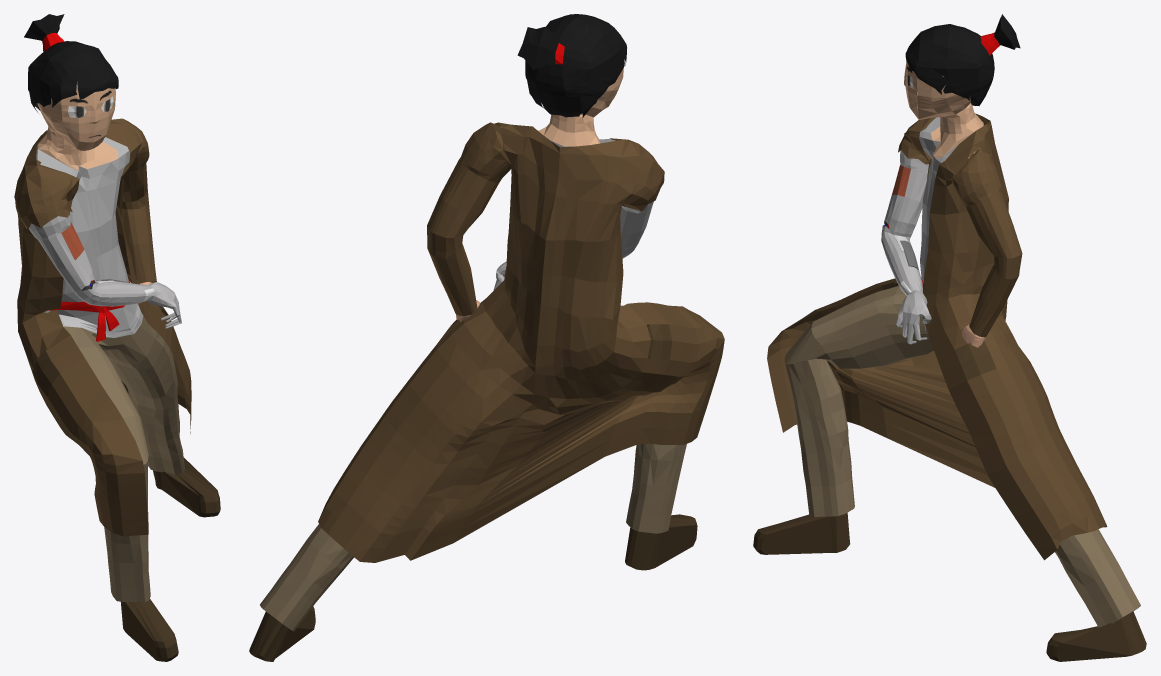
Rendered from One_RL_000013.obj.
The picture shows the model from 3 angles, left to right: view 1: azimuth 30°, elevation 25°; view 2: azimuth 150°, elevation 25°; view 3: azimuth 270°, elevation 25°; orthographic projection. The views are drawn at different scales.
Parts seen in each view (by area): view 1: Hair_Cube.004; view 2: Hair_Cube.004; view 3: Hair_Cube.004.
Part boxes in pixels (box(x1,y1,x2,y2)): Hair_Cube.004: box(14, 14, 220, 661); Hair_Cube.004: box(249, 14, 724, 661); Hair_Cube.004: box(753, 14, 1146, 661).
Bounding box in the file's own units: 1.69 × 3.47 × 2.25.
